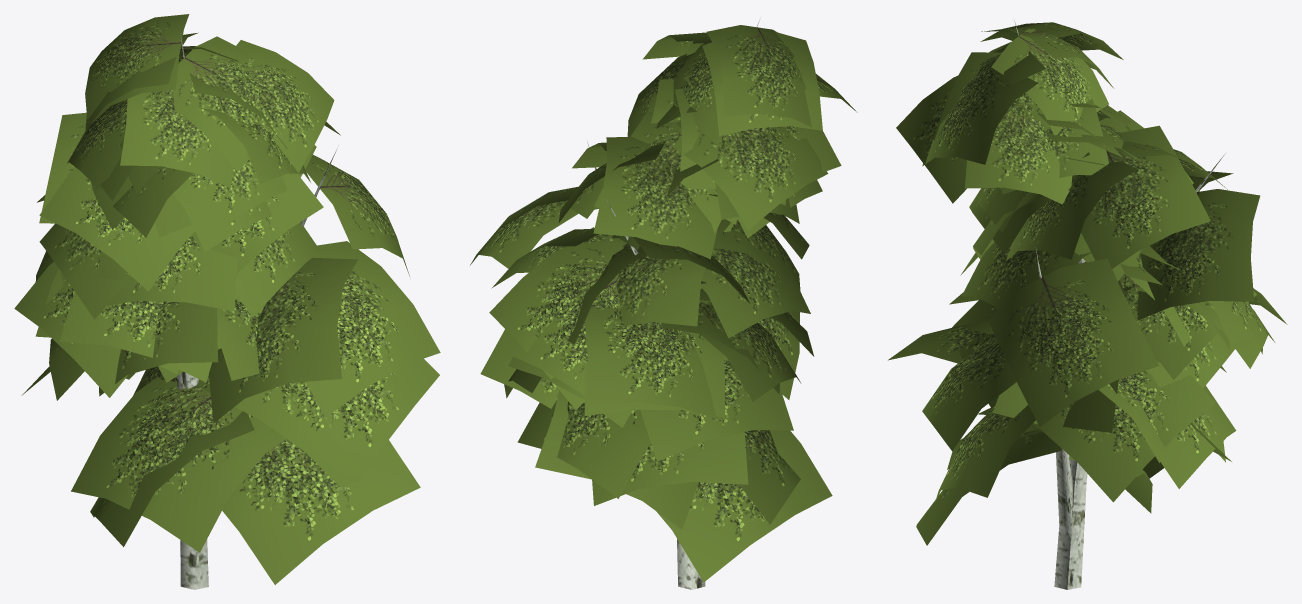
The model's file is tree6.obj.
The picture shows the model from 3 angles, left to right: view 1: azimuth 30°, elevation 25°; view 2: azimuth 150°, elevation 25°; view 3: azimuth 270°, elevation 25°; orthographic projection. The views are drawn at different scales.
Visible parts, largest first — view 1: tree6; view 2: tree6; view 3: tree6.
Part boxes in pixels (x1,y1,x2,y2): tree6: [14, 14, 440, 589]; tree6: [470, 18, 857, 589]; tree6: [888, 19, 1287, 589].
Bounding box in the file's own units: 9.67 × 15.85 × 10.47.
Materials: 2 (2 with a texture image).
